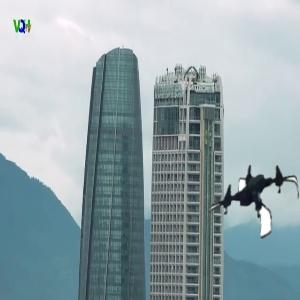drone: (210, 154, 300, 245)
